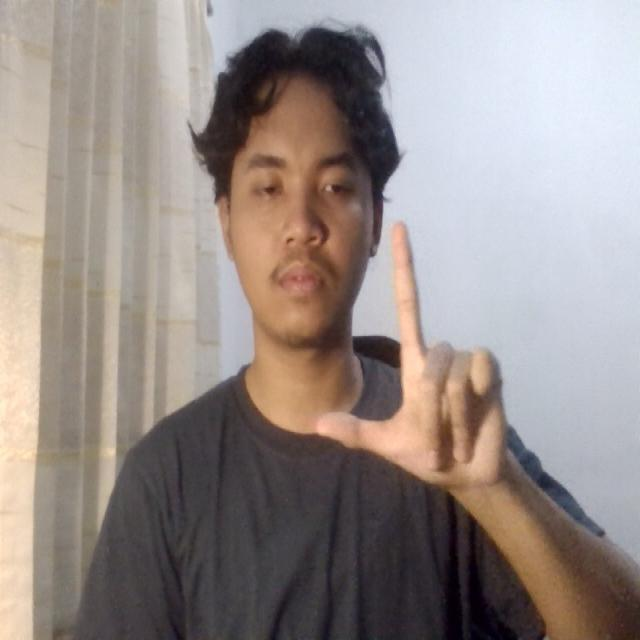I: (299, 212, 546, 525)
